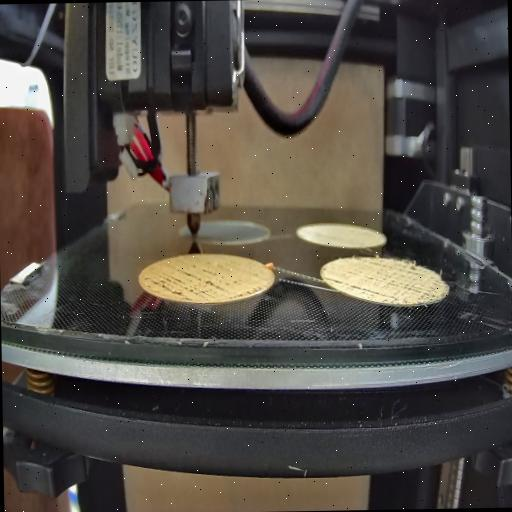under_extrusion: (325, 261, 429, 305), (144, 263, 262, 298)
